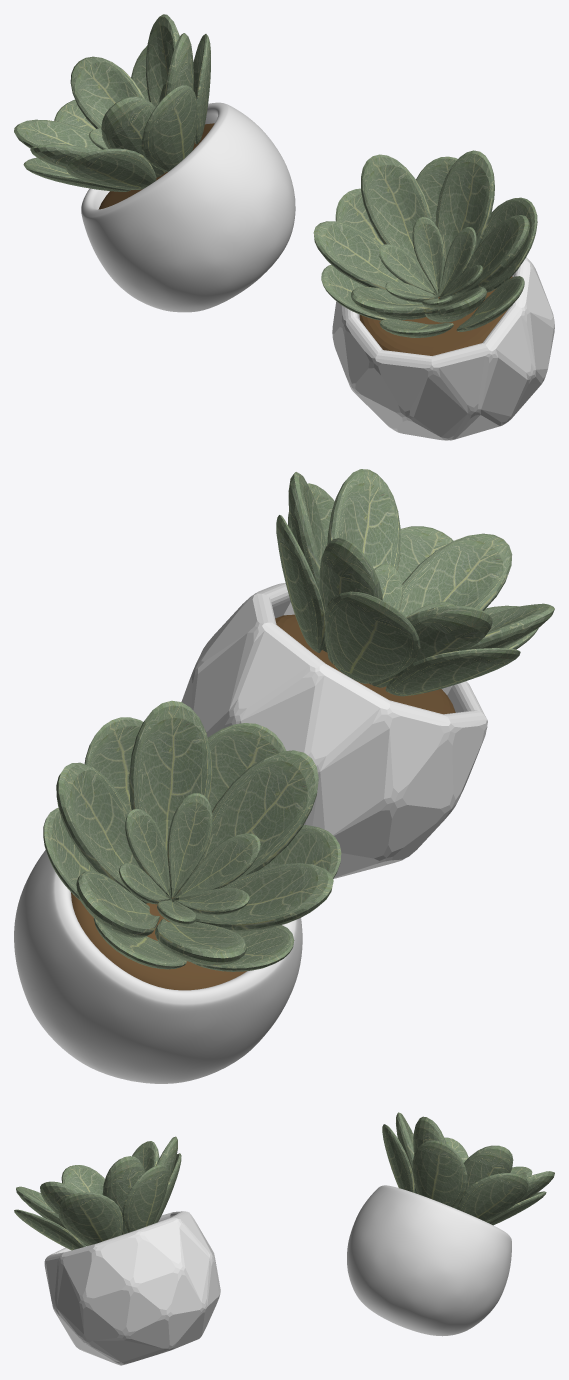
The model's file is twin-pots.gltf.
3 views of the same model, one above another, from view 1: azimuth 30°, elevation 25°; view 2: azimuth 150°, elevation 25°; view 3: azimuth 270°, elevation 25° (orthographic). The views are drawn at different scales.
Parts seen in each view (by area): view 1: flowerpot2, flowerpot1; view 2: flowerpot1, flowerpot2; view 3: flowerpot2, flowerpot1.
Part boxes in pixels (x1,y1,x2,y2): flowerpot2: (313, 150, 554, 440); flowerpot1: (14, 14, 295, 312); flowerpot1: (14, 700, 341, 1083); flowerpot2: (181, 469, 554, 878); flowerpot2: (14, 1136, 220, 1365); flowerpot1: (347, 1112, 554, 1336).
Size of the model in its own units: 3.05 by 2.67 by 6.1.
Materials: 3 (1 with a texture image).
